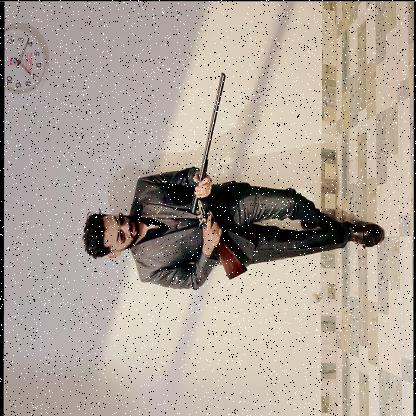rifle: (189, 70, 249, 280)
